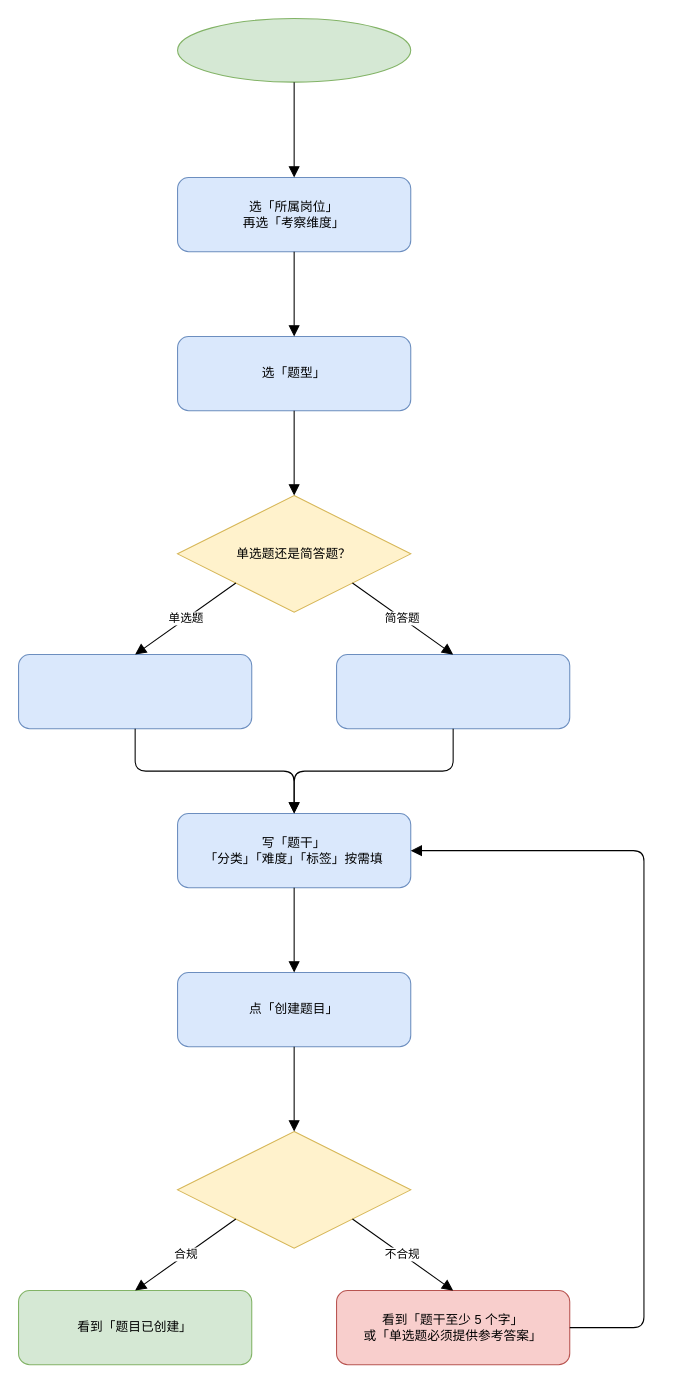
Some shapes in this 673 by 1383 pixel diagram are drawn without their labels. The shapes that lost their labels are listed below. From the top down, each one's centre as x and y in pixels, then its label:
(293,49): 在「题库」页点右上角 「创建题目」
(134,691): 单选：填「选项」， 在「参考答案」下拉里选正确项
(452,691): 简答：在「参考答案」里 写标准答案（可留空）
(293,1189): 填得合规吗？
